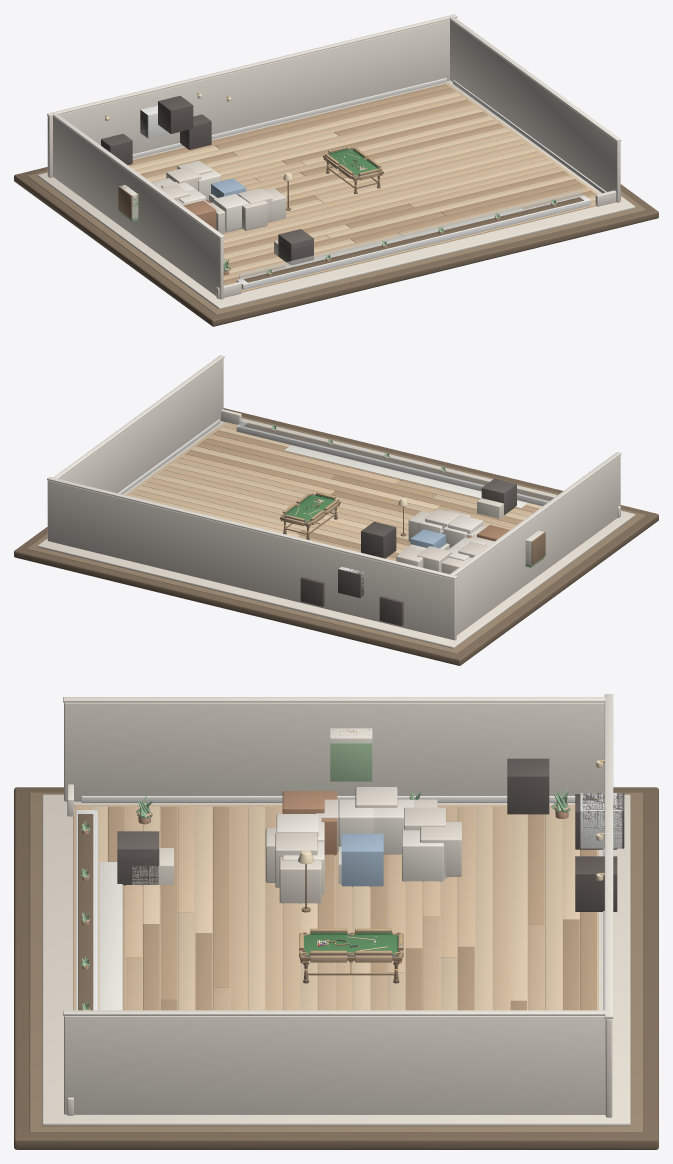
Rendered from fireside-lounge.glb.
The picture shows the model from 3 angles, top to bottom: view 1: azimuth 30°, elevation 25°; view 2: azimuth 150°, elevation 25°; view 3: azimuth 270°, elevation 25°; orthographic projection. The views are drawn at different scales.
Visible parts, largest first — view 1: WallNorth, WallEast, WallWest, Plinth, Skirt, PlinthHi, WellTrough, WellGlass, Plank9_0, Plank10_0, Plank27_0, CapNorth (+53 smaller); view 2: WallNorth, Plinth, WallWest, WallEast, Skirt, PlinthHi, WellTrough, CapNorth, WellGlass, WellDaylight, Plank6_1, Plank4_1 (+30 smaller); view 3: WallEast, WallWest, Plinth, Skirt, PlinthHi, Floor, Plank9_0, Plank10_0, Plank23_0, Plank24_0, WellDaylight, Plank27_0 (+62 smaller).
Part boxes in pixels (x1,y1,x2,y2): WallNorth: [47, 18, 456, 177]; WallEast: [450, 20, 620, 202]; WallWest: [53, 116, 223, 299]; Plinth: [14, 167, 658, 326]; Skirt: [37, 80, 635, 309]; PlinthHi: [27, 170, 645, 314]; WellTrough: [236, 195, 590, 289]; WellGlass: [239, 190, 582, 279]; Plank9_0: [223, 163, 558, 248]; Plank10_0: [223, 159, 552, 243]; Plank27_0: [135, 92, 460, 173]; CapNorth: [47, 14, 457, 116]; WallNorth: [47, 480, 456, 640]; Plinth: [14, 408, 658, 665]; WallWest: [456, 455, 620, 635]; WallEast: [59, 358, 223, 493]; Skirt: [37, 418, 635, 648]; PlinthHi: [27, 416, 645, 653]; WellTrough: [236, 421, 554, 506]; CapNorth: [47, 476, 457, 579]; WellGlass: [239, 421, 554, 501]; WellDaylight: [284, 445, 527, 508]; Plank6_1: [191, 446, 439, 509]; Plank4_1: [202, 438, 436, 498]; WallEast: [64, 1016, 605, 1114]; WallWest: [64, 702, 604, 801]; Plinth: [14, 787, 658, 1149]; Skirt: [42, 794, 630, 1126]; PlinthHi: [29, 792, 643, 1132]; Floor: [74, 805, 598, 1010]; Plank9_0: [230, 806, 247, 1010]; Plank10_0: [248, 806, 264, 1010]; Plank23_0: [475, 806, 491, 1010]; Plank24_0: [493, 806, 509, 1010]; WellDaylight: [99, 862, 122, 1010]; Plank27_0: [545, 806, 561, 1010].
Bounding box in the file's own units: 19.8 × 3.34 × 15.3.
